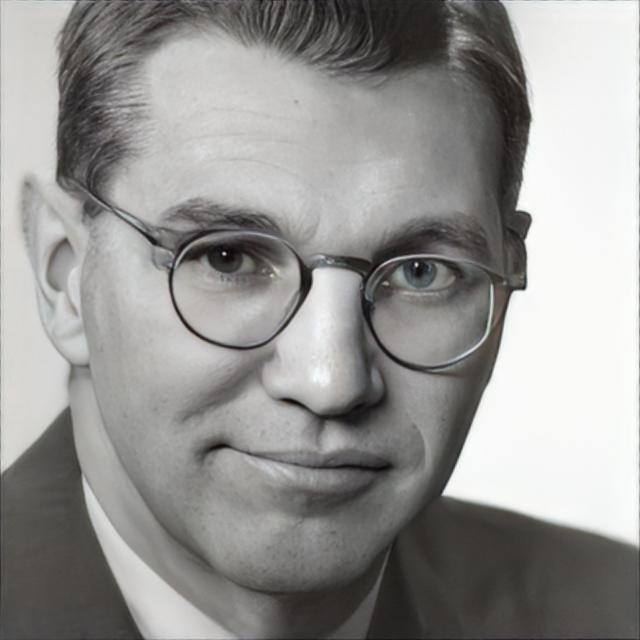content: (92, 14, 510, 602)
